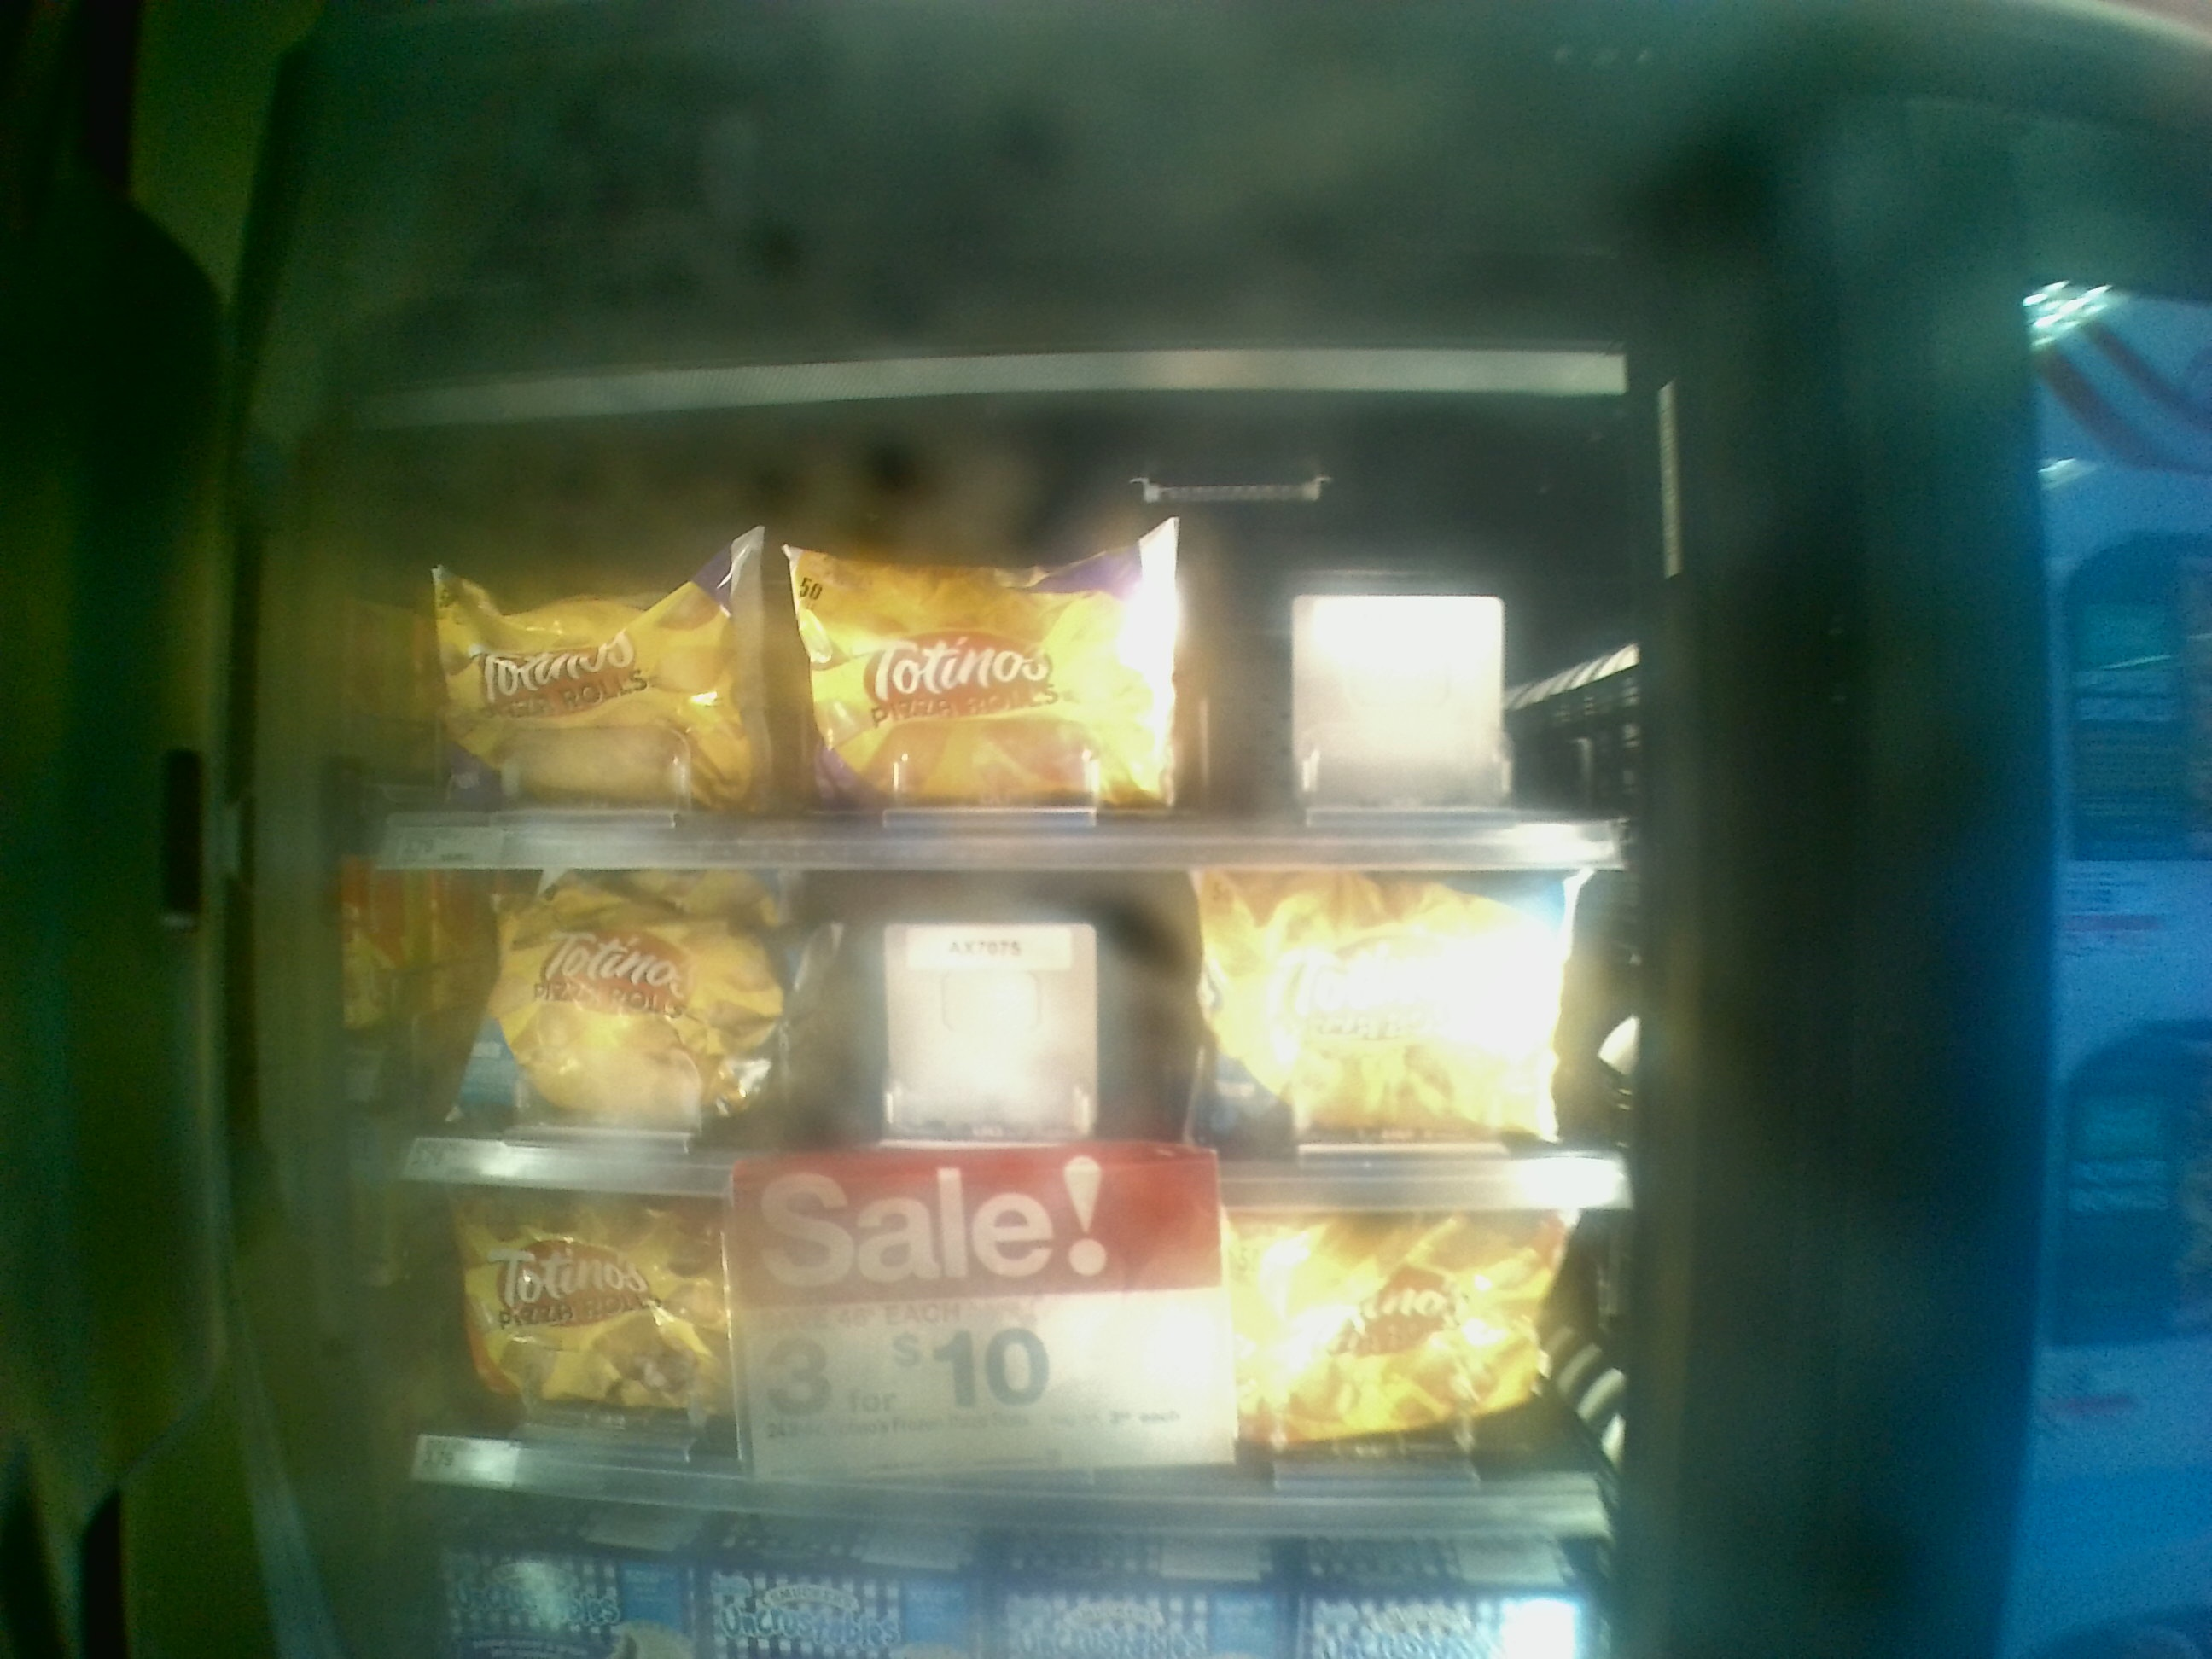shelf: (314, 444, 1641, 861), (355, 864, 1625, 1213), (388, 1185, 1620, 1535)
